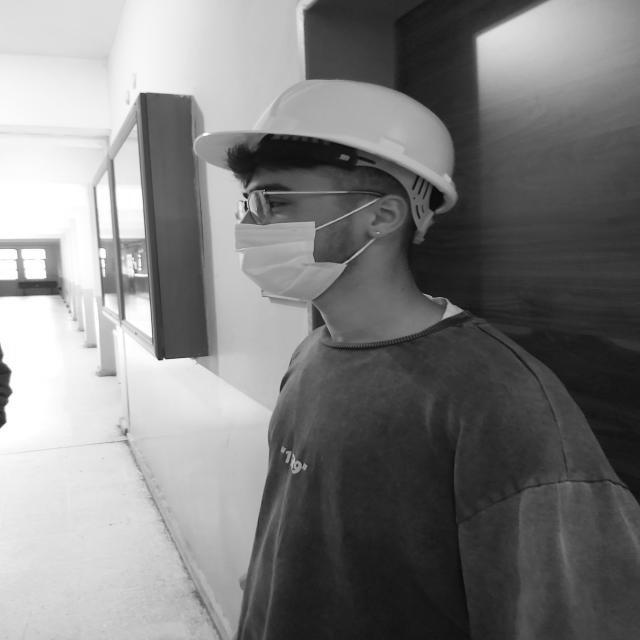safety_helmet: (193, 80, 458, 236)
